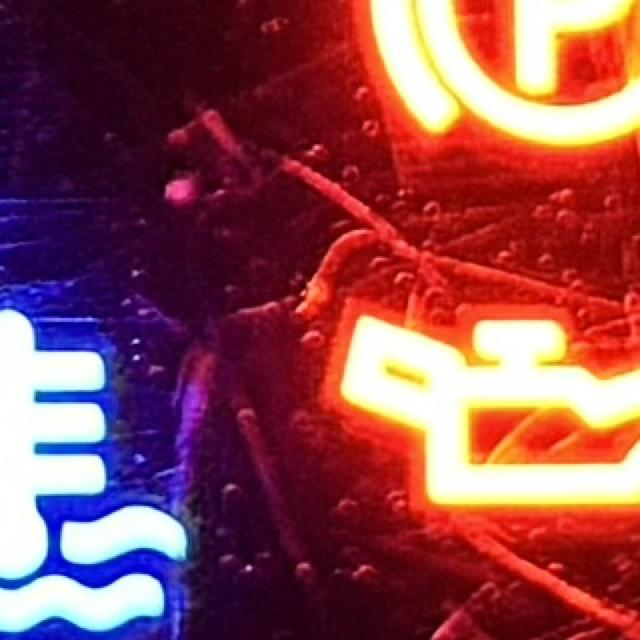High Engine Temperature: (1, 295, 193, 640)
Low Oil Pressure Issue: (333, 314, 640, 513)
